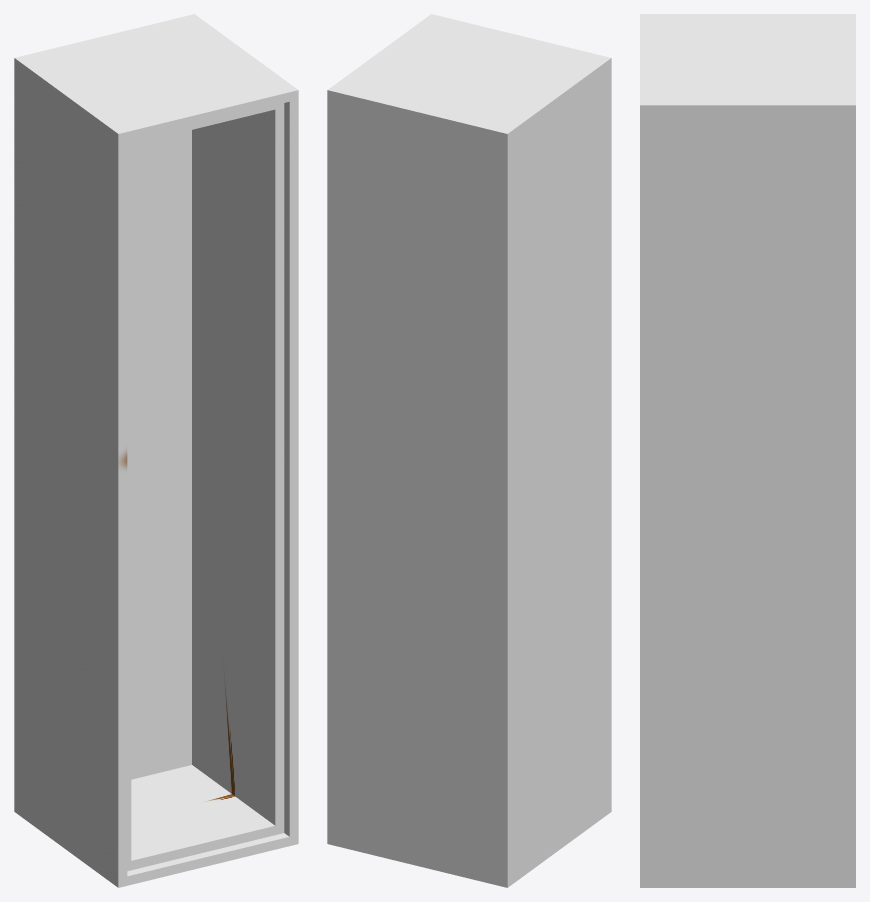
The model's file is Lockers for changing rooms.fbx.
3 views of the same model, side by side, from view 1: azimuth 30°, elevation 25°; view 2: azimuth 150°, elevation 25°; view 3: azimuth 270°, elevation 25° (orthographic). The views are drawn at different scales.
Parts seen in each view (by area): view 1: Lockers for changing rooms; view 2: Lockers for changing rooms; view 3: Lockers for changing rooms.
Part boxes in pixels (left/top/right/bottom): Lockers for changing rooms: left=14, top=14, right=298, bottom=887; Lockers for changing rooms: left=327, top=14, right=611, bottom=887; Lockers for changing rooms: left=640, top=14, right=855, bottom=887.
Bounding box in the file's own units: 100 × 400 × 100.
